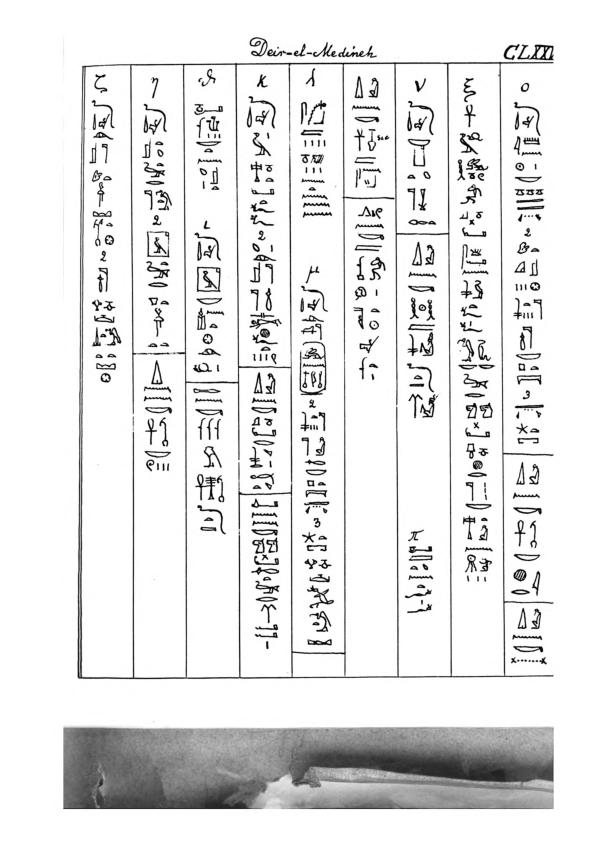circle: (298, 339, 330, 397)
